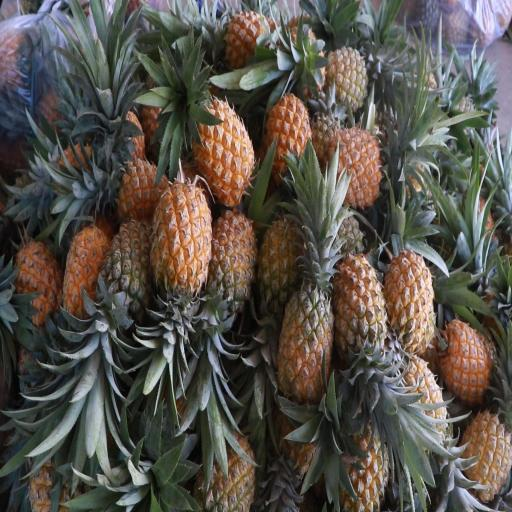------------------------------: (275, 262, 338, 403), (100, 217, 158, 332), (254, 196, 304, 311), (193, 423, 256, 512), (318, 44, 369, 123)
Pineapple - v8 v1: (145, 177, 213, 312), (326, 255, 390, 388), (189, 92, 254, 216), (378, 246, 440, 367), (201, 188, 255, 324), (102, 158, 178, 246), (330, 409, 391, 512), (318, 120, 387, 210), (62, 217, 111, 338), (8, 234, 61, 342), (437, 316, 496, 410), (259, 89, 311, 194), (459, 412, 512, 512), (219, 3, 275, 74)
